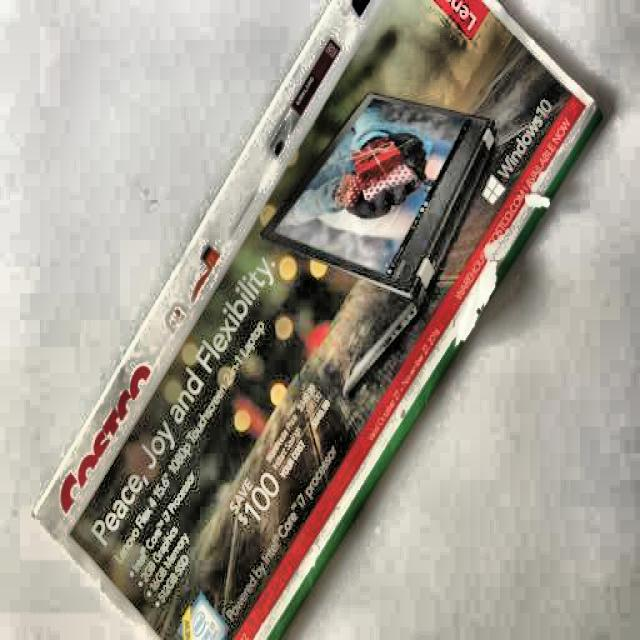Paper: (27, 0, 604, 640)
